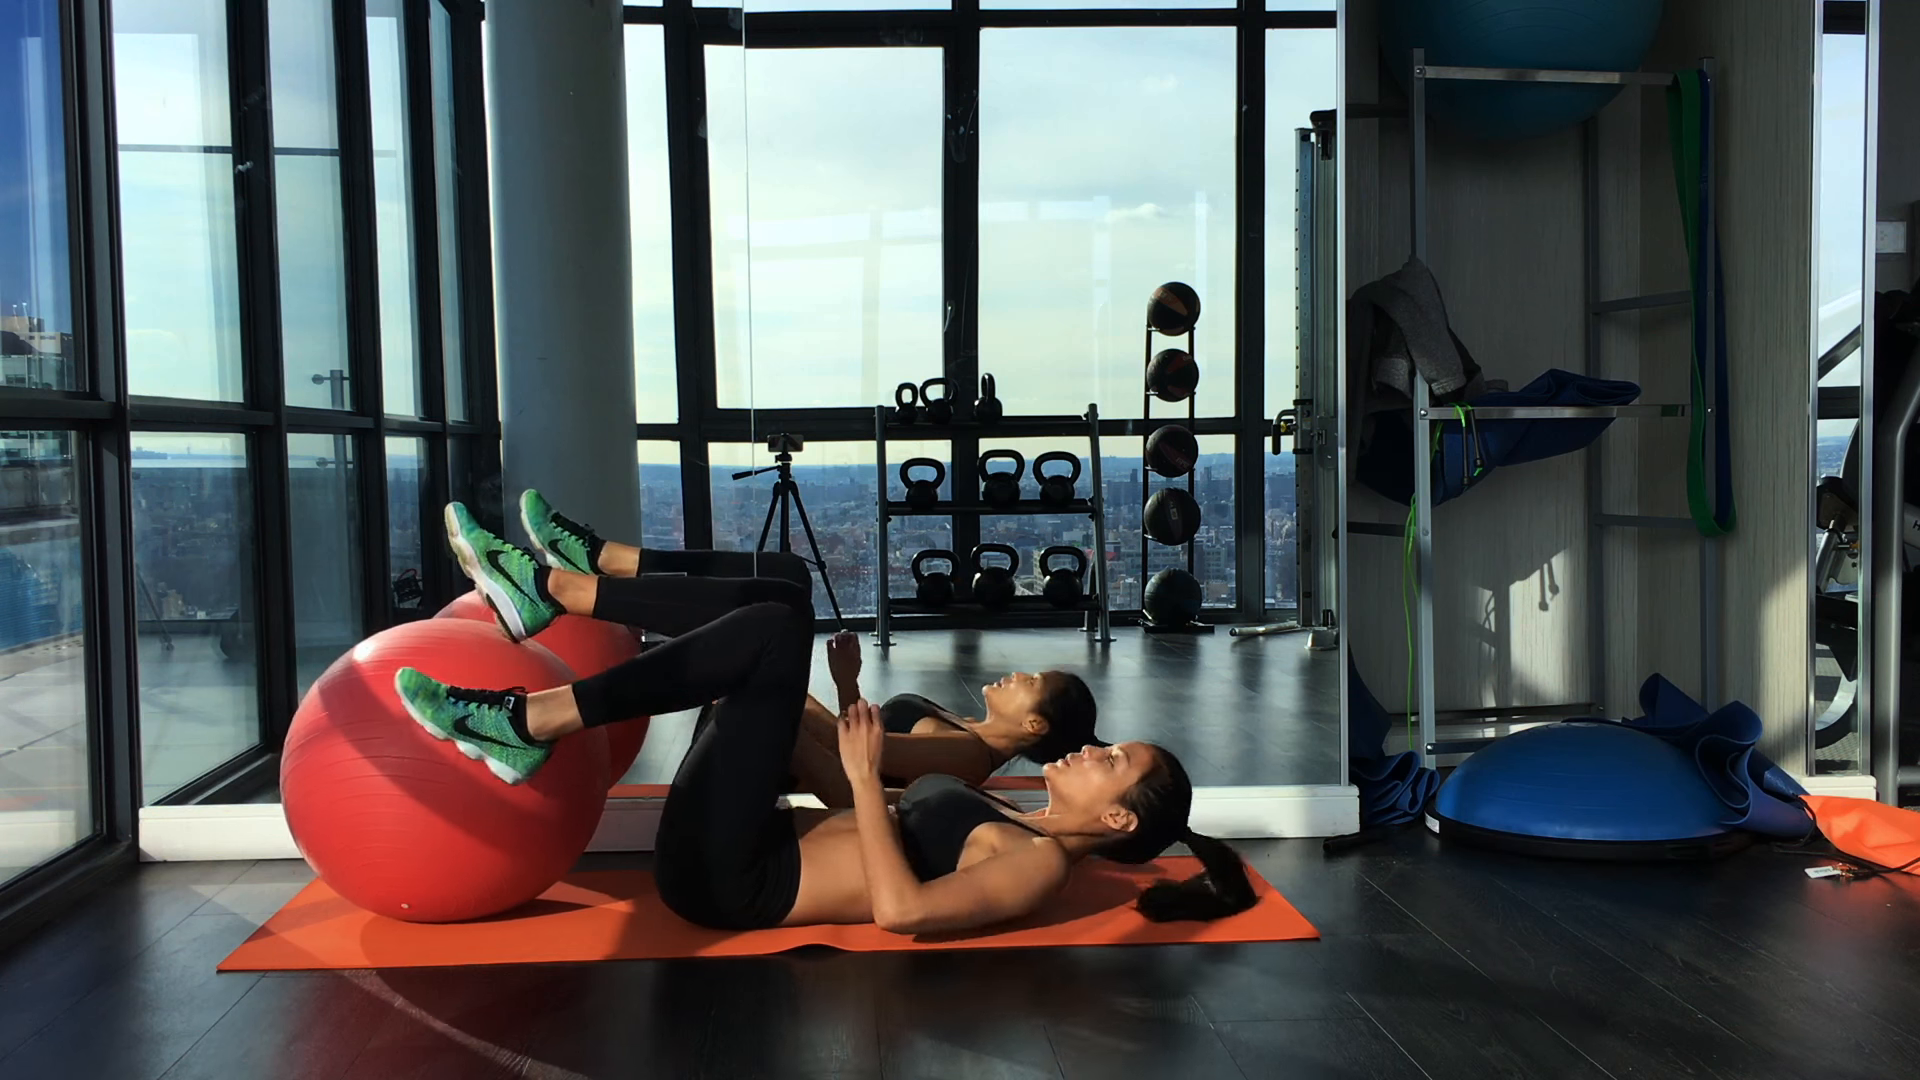yogaball: (273, 611, 615, 938)
